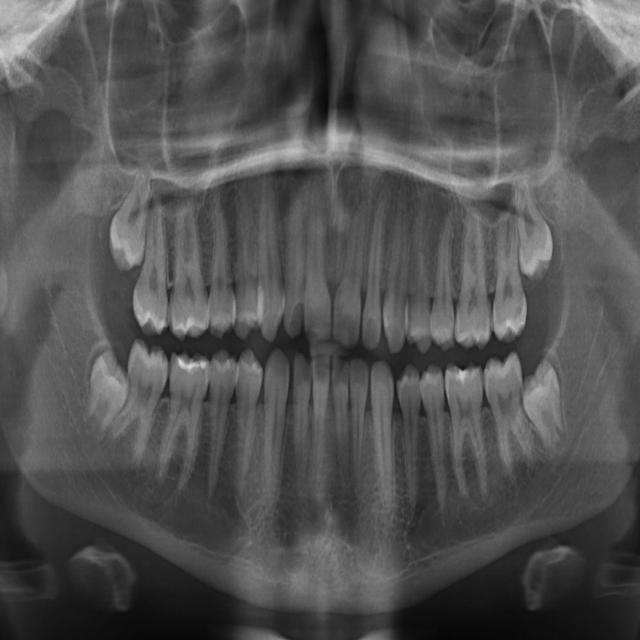3M ESPE Implant: (94, 154, 158, 286)
AGS Medikal Implant: (478, 352, 537, 488)
AMerOss Implant: (442, 358, 493, 507)
Amalgam filling: (133, 190, 169, 337)
Anthogyr Implant: (419, 361, 456, 516)
Bicon Implant: (395, 356, 427, 518)
BioHorizons Implant: (370, 359, 395, 526)
BioLife Implant: (347, 355, 370, 498)
Biomet 3i Implant: (330, 354, 355, 509)
Blue Sky Bio Implant: (311, 354, 332, 507)
Camlog Implant: (292, 350, 315, 507)
Caries: (362, 186, 394, 354)
Composite filling: (249, 344, 293, 514)
Cowellmedi Implant: (223, 349, 266, 509)
Crown: (199, 347, 237, 501)
DENTSPLY Implant: (169, 167, 209, 342)
Dentatus Implant: (152, 344, 212, 499)
Dentis Implant: (136, 423, 136, 424)
Dentium Implant: (78, 344, 126, 444)
Euroteknika Implant: (207, 176, 233, 342)
Filling: (232, 155, 257, 343)
Frontier Implant: (257, 140, 281, 348)
Hiossen Implant: (382, 155, 413, 357)
Implant: (302, 165, 331, 348)
Implant Direct: (281, 170, 307, 343)
Keystone Dental Implant: (329, 191, 370, 351)
MIS Implant: (409, 177, 433, 358)
Mandible: (432, 195, 461, 354)
Maxilla: (446, 197, 494, 358)
Megagen Implant: (485, 204, 532, 348)
Neodent Implant: (509, 172, 560, 290)
Neoss Implant: (520, 348, 574, 461)
